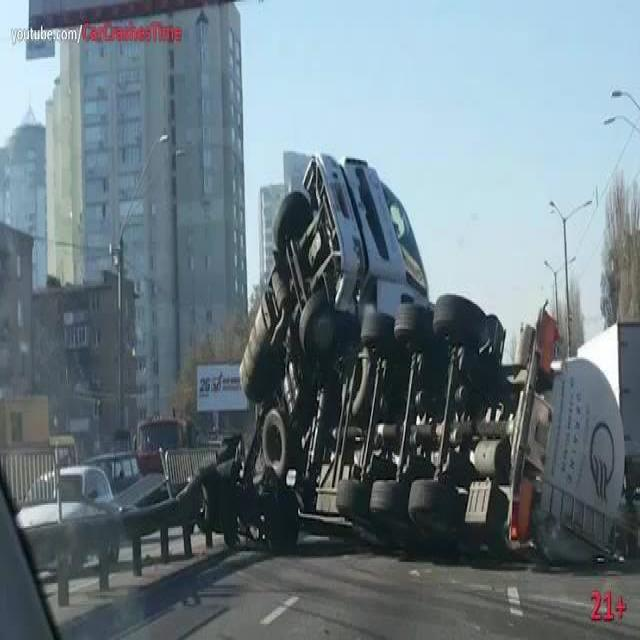accident: (212, 137, 628, 578)
